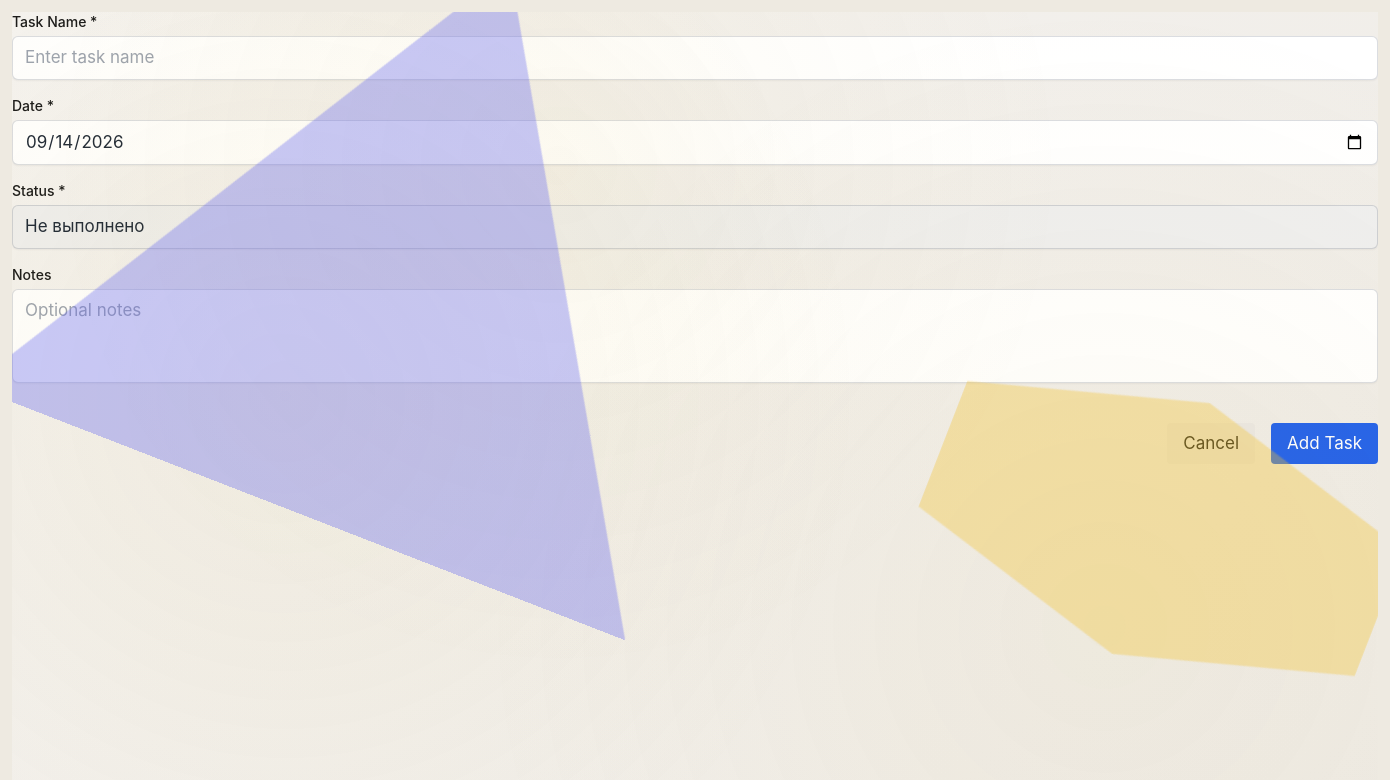
Scenario: Task Modal Error Handling › should show error when user is not authenticated
Fill in form
Type "Test Task" into the field labelled "Task Name *".
click(695, 58); type("Test Task")  # box [12, 36, 1378, 80]
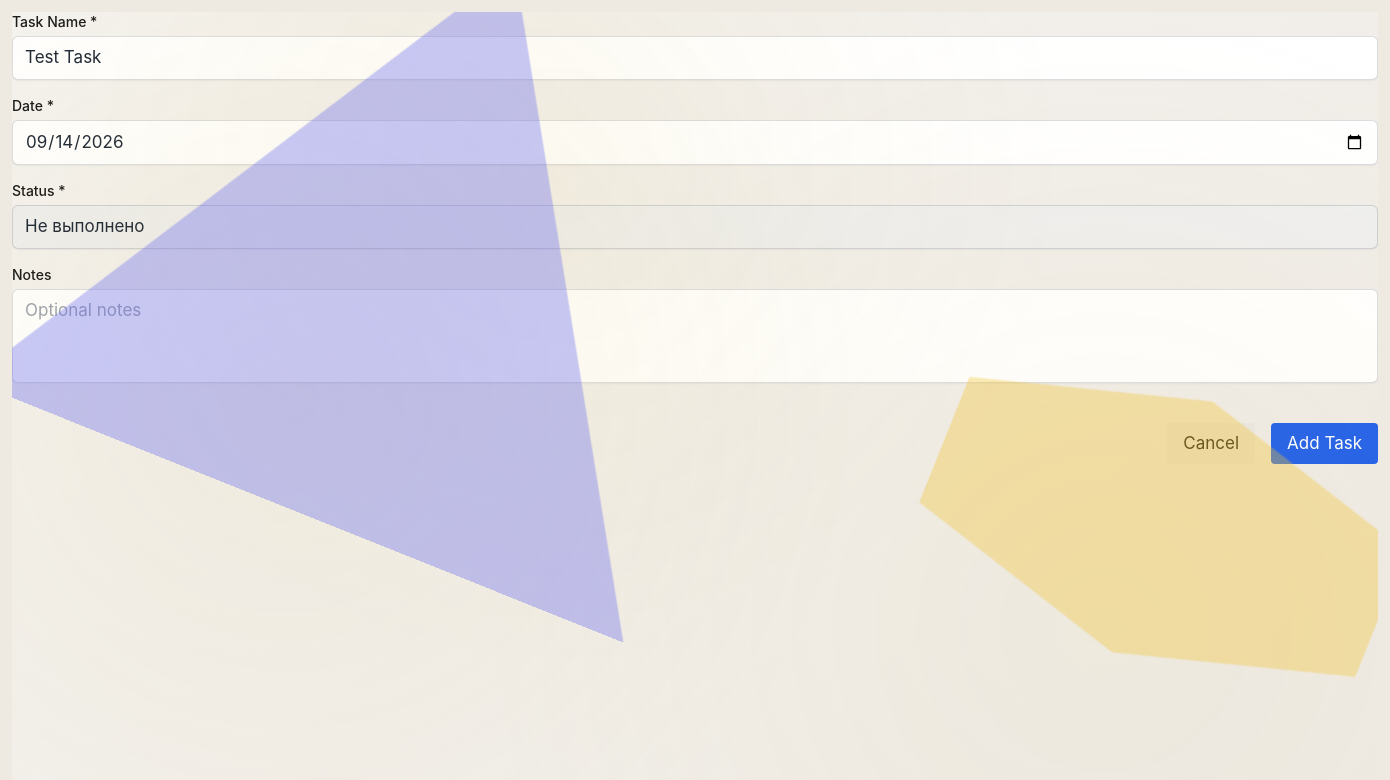
Submit form
Click the button "Add Task".
click(1325, 443)  # box [1271, 422, 1378, 464]
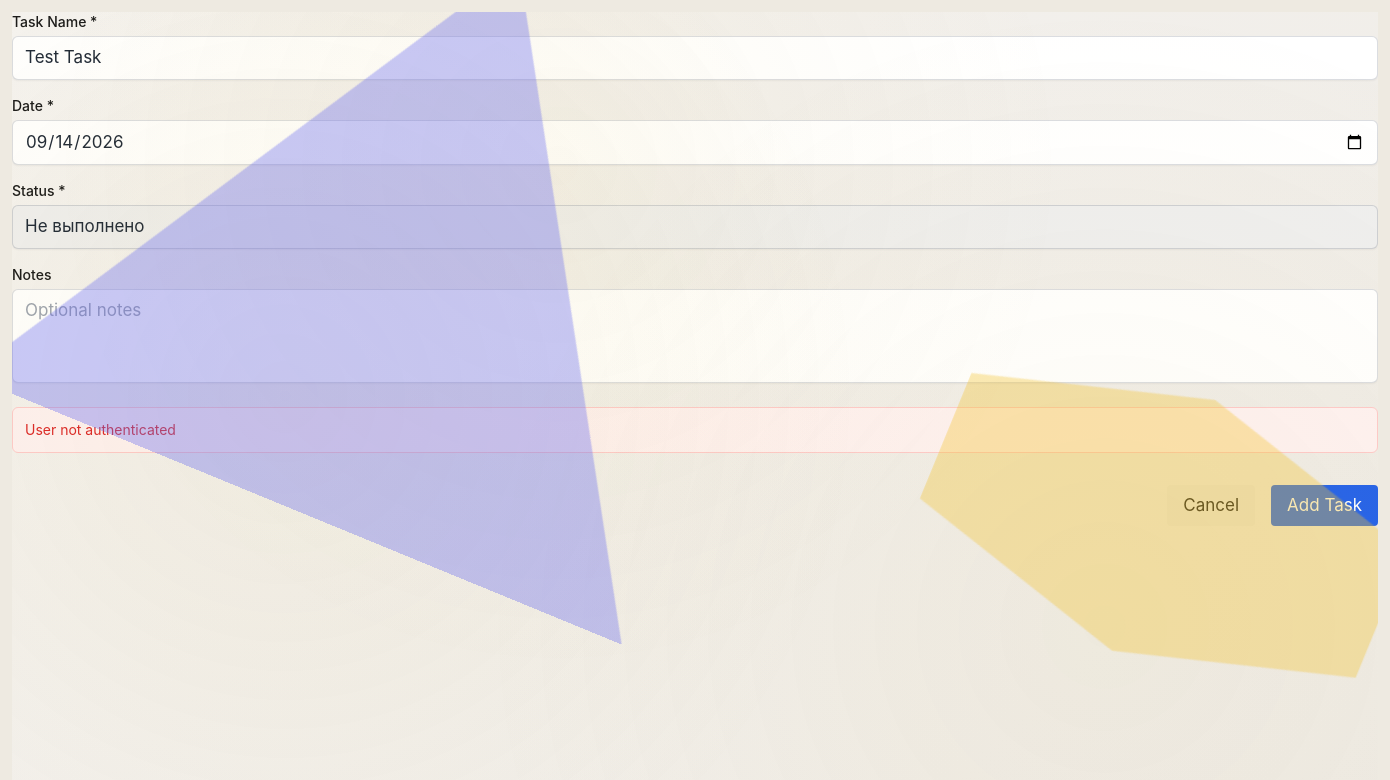
Now the text "User not authenticated" is shown, box [25, 420, 176, 438]
